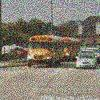buses: (26, 36, 80, 69)
